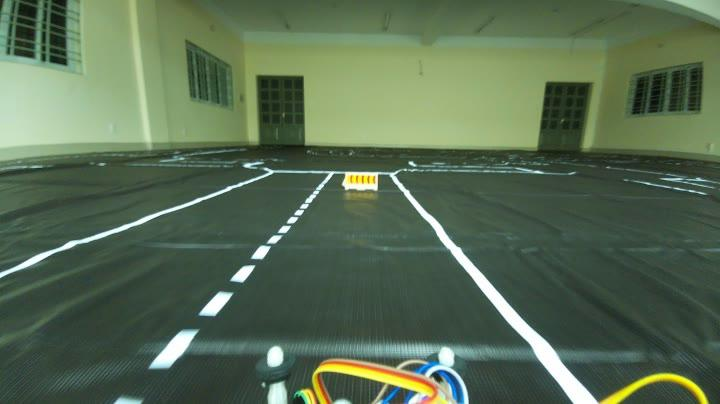roadblock: (336, 164, 386, 198)
